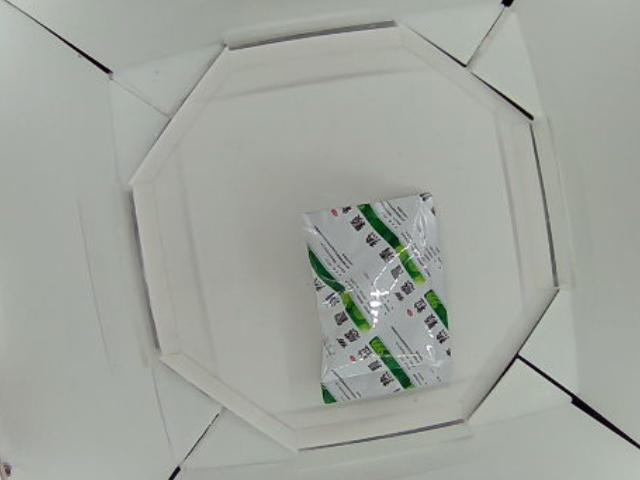Medicine: (303, 189, 457, 407)
